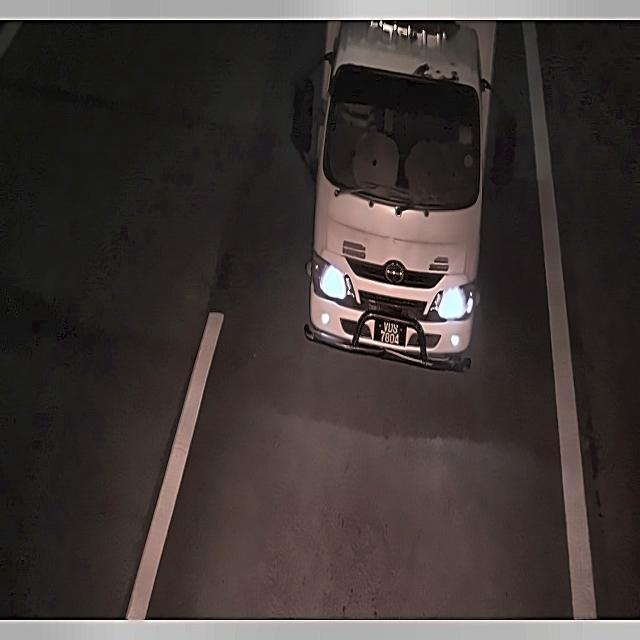car: (372, 310, 410, 352)
